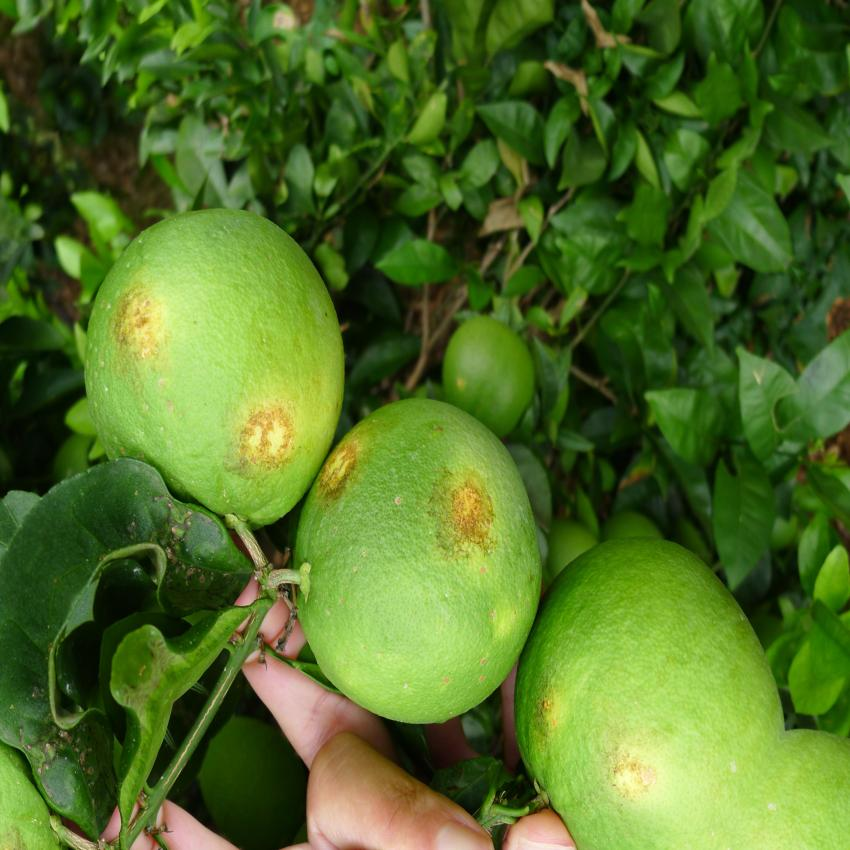Mal estado: (71, 185, 370, 551), (286, 381, 555, 735), (514, 536, 797, 836)
